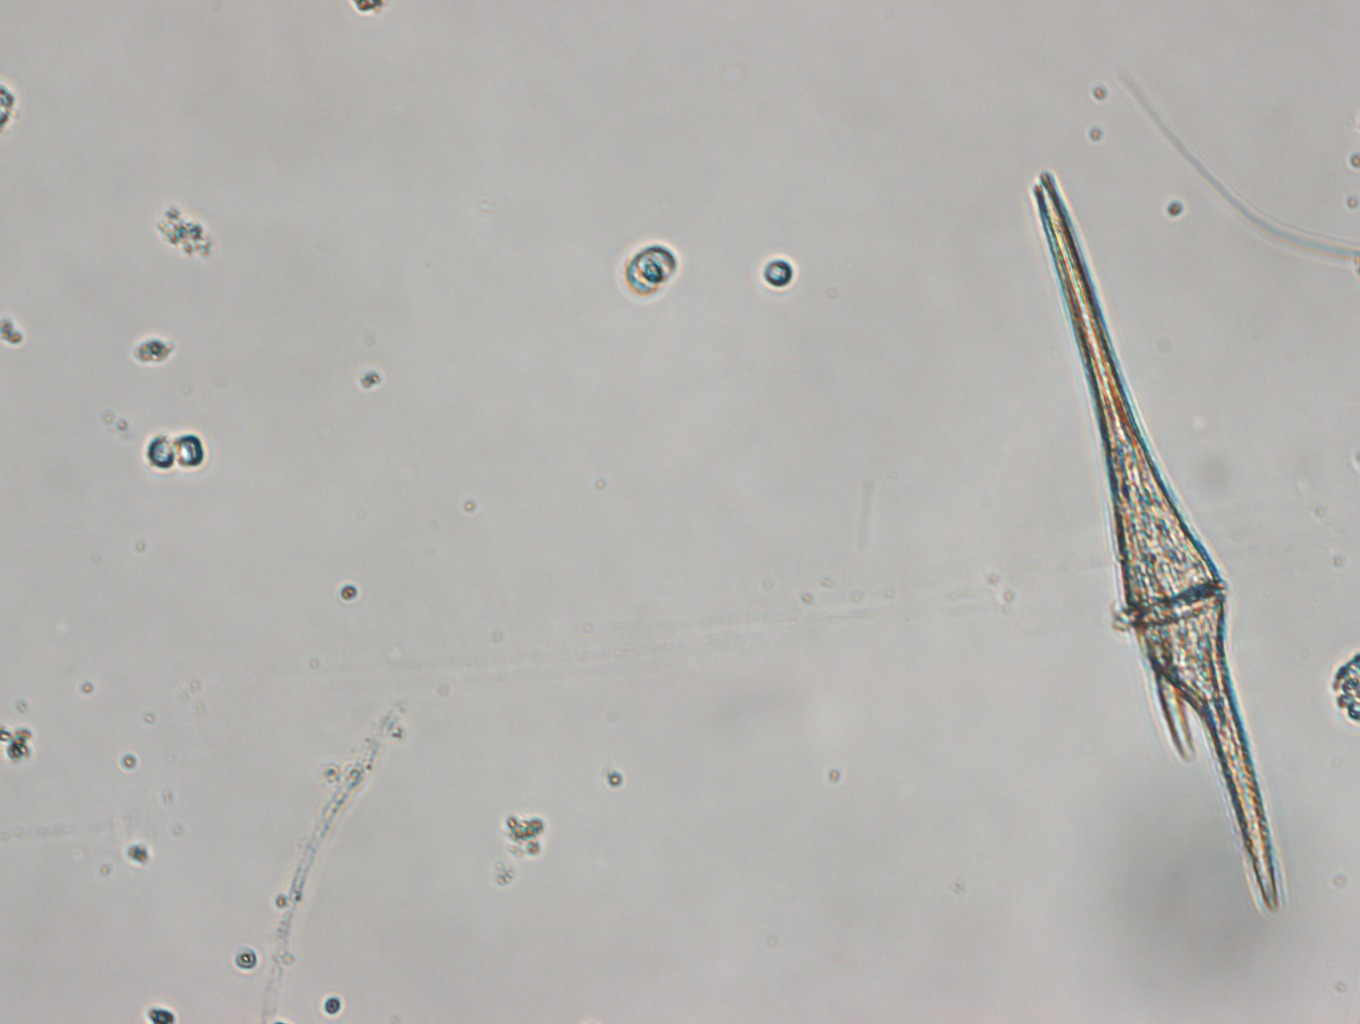ceratium furca: (1030, 163, 1288, 914)
